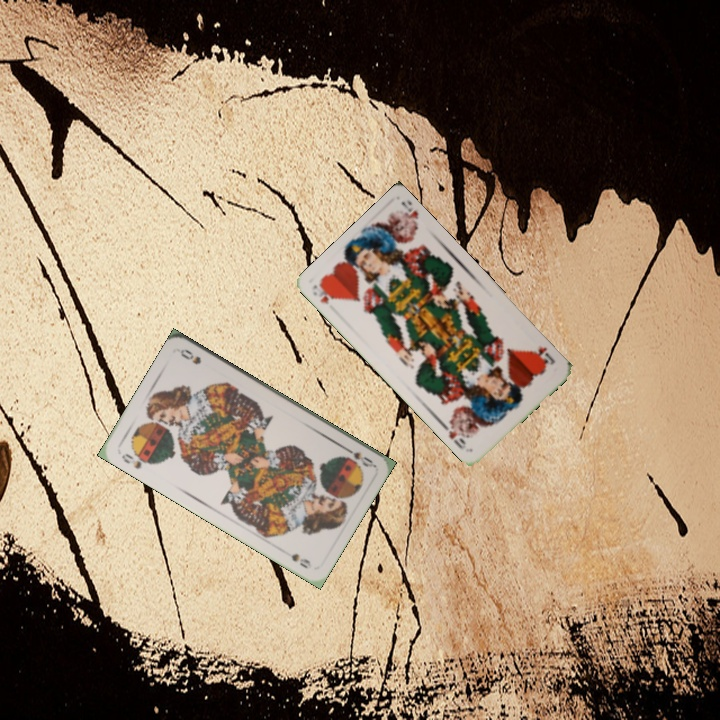HO: (309, 279, 338, 307), (527, 341, 557, 368)
SO: (339, 442, 375, 470), (118, 449, 154, 472)
